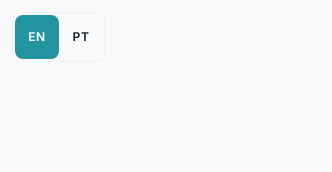
Test case: LanguageToggle component › switches language and updates aria-pressed when clicked
The image size is (332, 172).
# click PT
Click the button "PT". click: point(81, 37)
box: [59,15,103,59]
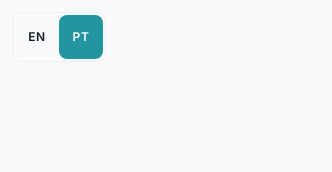
Check: the button "PT" is pressed, box [59,15,103,59]
Check: the button "EN" is not pressed
# click EN
Click the button "EN". click: point(37, 37)
box: [15,15,59,59]
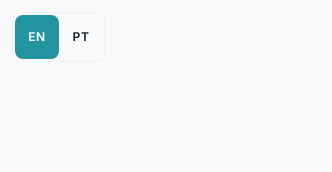
Check: the button "EN" is pressed, box [15,15,59,59]
Check: the button "PT" is not pressed, box [59,15,103,59]
